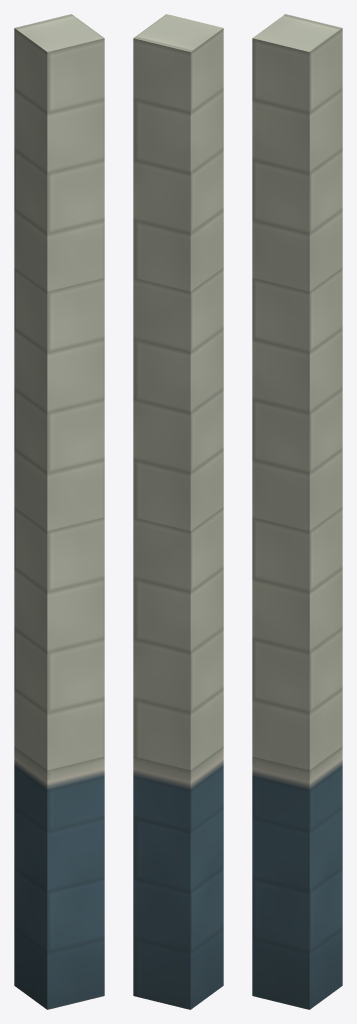
The model's file is wall_prison_post.fbx.
3 renders of one model, left to right at view 1: azimuth 30°, elevation 25°; view 2: azimuth 150°, elevation 25°; view 3: azimuth 330°, elevation 25°, orthographic.
Parts seen in each view (by area): view 1: wall_prison_post; view 2: wall_prison_post; view 3: wall_prison_post.
Boxes of the visible parts, x1,y1,x2,y2 form: wall_prison_post: (14,14,104,1009); wall_prison_post: (133,14,223,1009); wall_prison_post: (252,14,342,1009).
Bounding box in the file's own units: 0.25 × 4 × 0.25.
1 material, 1 textured.
